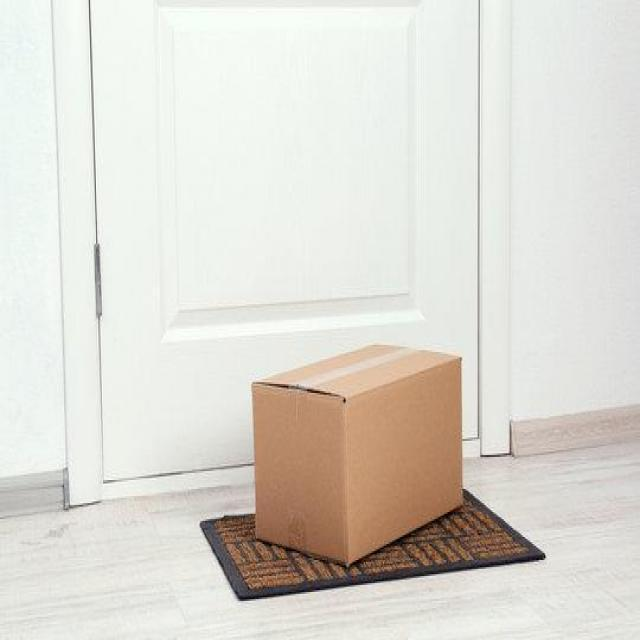box: (251, 333, 466, 563)
